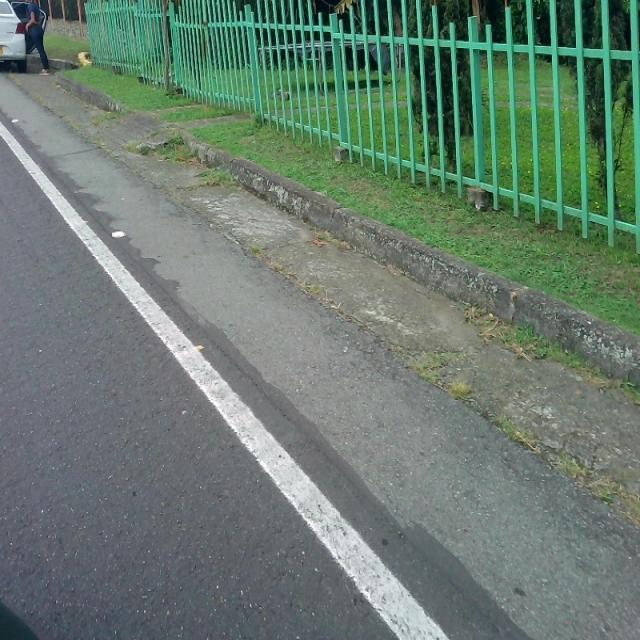DITCH: (1, 61, 638, 638), (1, 64, 638, 639)
